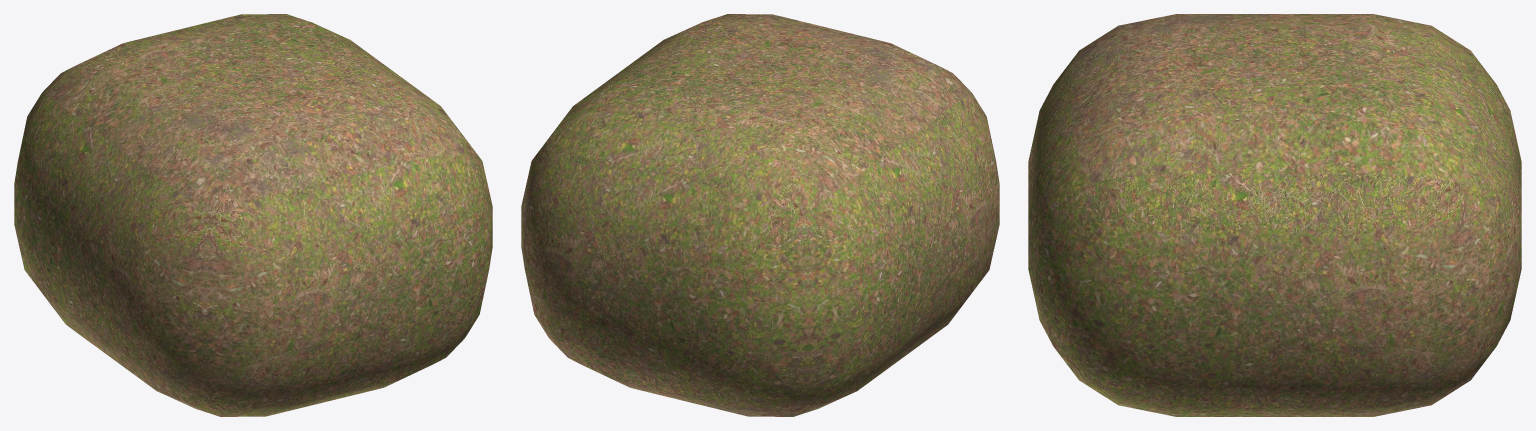
File: plat_tree_r.glb
The picture shows the model from 3 angles, left to right: view 1: azimuth 30°, elevation 25°; view 2: azimuth 150°, elevation 25°; view 3: azimuth 270°, elevation 25°; orthographic projection. The views are drawn at different scales.
Visible parts, largest first — view 1: top.002; view 2: top.002; view 3: top.002.
Part boxes in pixels (x1,y1,x2,y2): top.002: (14, 14, 492, 416); top.002: (521, 14, 999, 416); top.002: (1028, 14, 1521, 416).
Size of the model in its own units: 0.9 by 0.7 by 1.
Materials: 1 (1 with a texture image).
